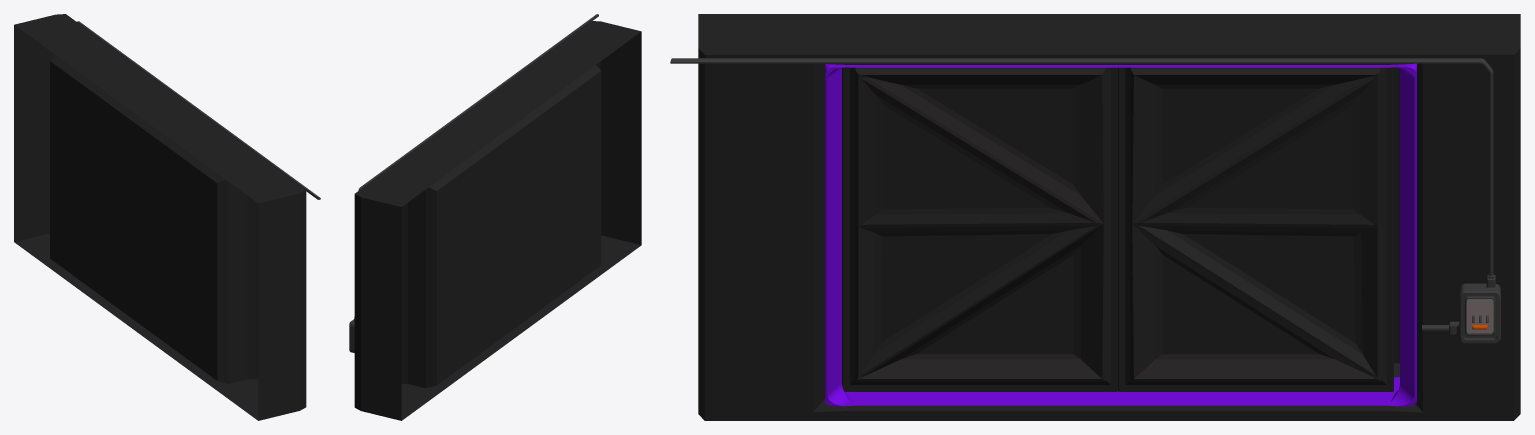
The model's file is 0001_factory_bloc.glb.
3 renders of one model, left to right at view 1: azimuth 30°, elevation 25°; view 2: azimuth 150°, elevation 25°; view 3: azimuth 270°, elevation 25°, orthographic. The views are drawn at different scales.
Parts seen in each view (by area): view 1: factory_bloc; view 2: factory_bloc; view 3: factory_bloc.
Part boxes in pixels (x1,y1,x2,y2): factory_bloc: (14, 14, 320, 420); factory_bloc: (349, 14, 641, 420); factory_bloc: (670, 14, 1520, 420).
Bounding box in the file's own units: 14.76 × 49.7 × 105.
